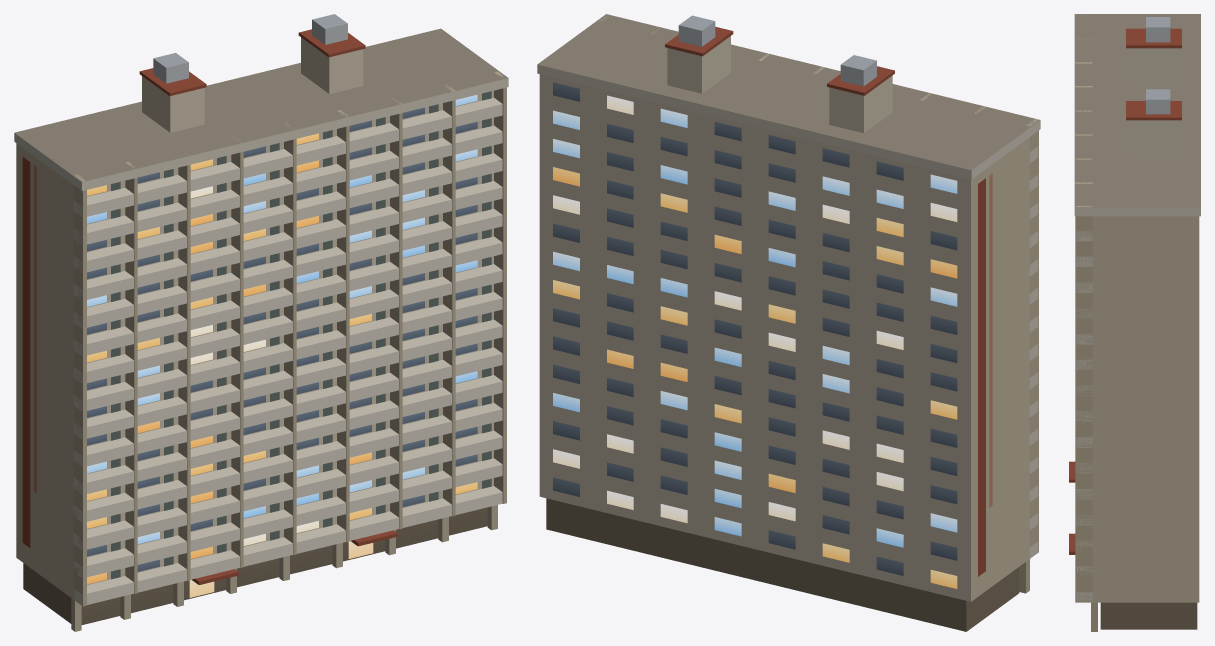
File: bld_apt_E_intact.meshopt.glb
3 renders of one model, left to right at view 1: azimuth 30°, elevation 25°; view 2: azimuth 150°, elevation 25°; view 3: azimuth 270°, elevation 25°, orthographic. The views are drawn at different scales.
Parts seen in each view (by area): view 1: bld_apt_E_intact; view 2: bld_apt_E_intact; view 3: bld_apt_E_intact.
Part boxes in pixels (bbox=[...]): bld_apt_E_intact: bbox=[14, 14, 508, 631]; bld_apt_E_intact: bbox=[537, 14, 1040, 631]; bld_apt_E_intact: bbox=[1069, 14, 1200, 631].
Size of the model in its own units: 45.1 by 51.8 by 12.95.
